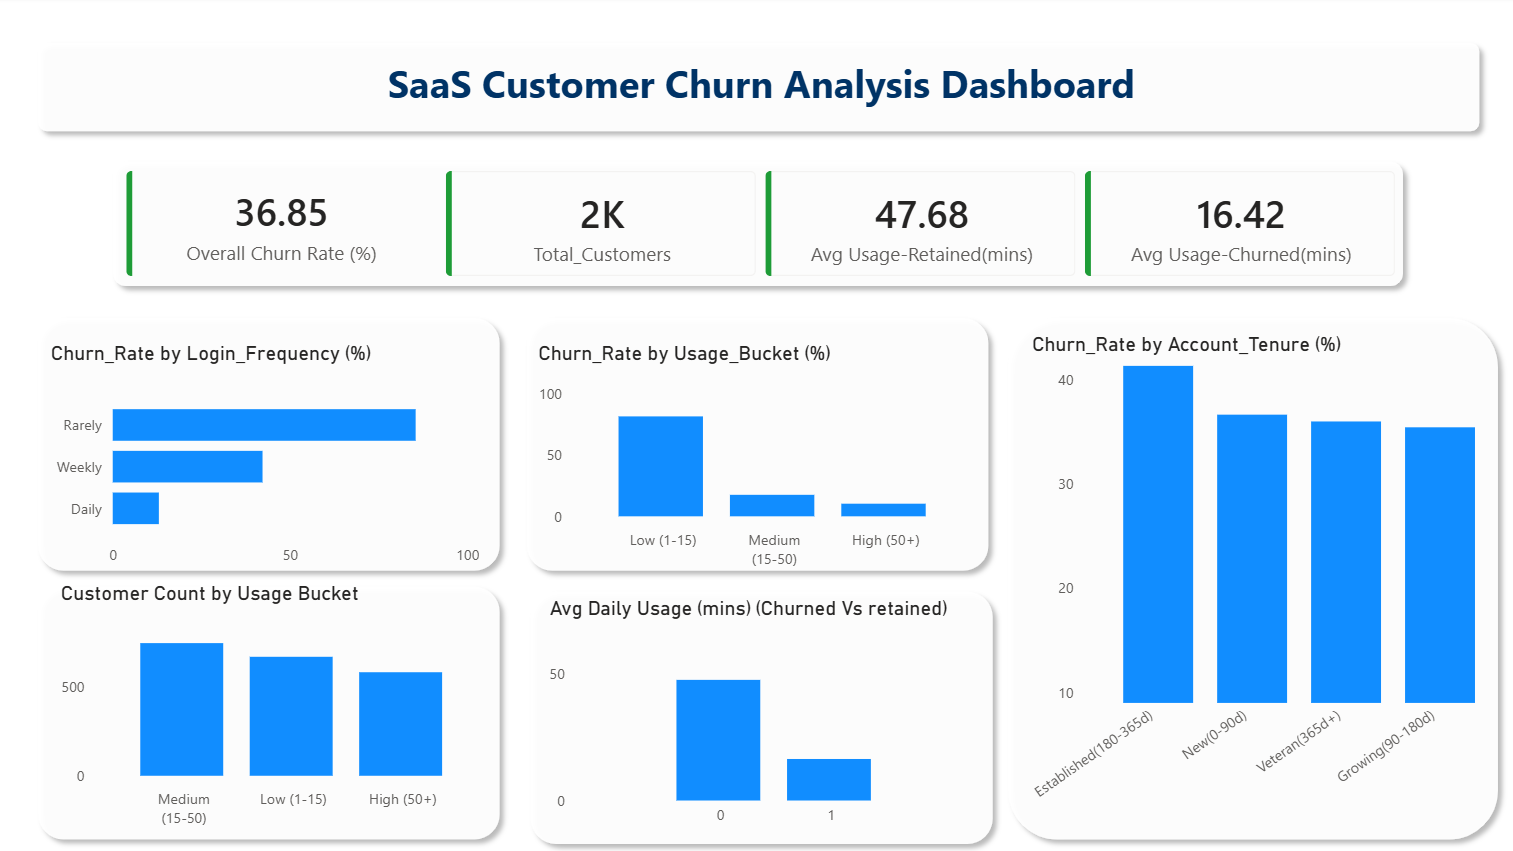

Layout of this report page (visuals, bound fields, positions):
{"tool":"powerbi","page":{"name":"Dashboard","canvas":[1280,720],"ordinal":0},"visuals":[{"type":"shape","box":[26.8,30.3,1226.7,92],"z":0},{"type":"shape","box":[89.7,130.5,1099.7,122.3],"z":1000},{"type":"shape","box":[26.8,260.9,405,230],"z":2000},{"type":"shape","box":[436.8,260.9,405,230],"z":3000},{"type":"shape","box":[841.1,260.9,428.7,455.5],"z":4000},{"type":"textbox","box":[228.3,46.6,828.3,60.6],"z":5000},{"type":"cardVisual","fields":{"Data":["saas_churn_analysis.Churn_Rate","saas_churn_analysis.Total_Cust","saas_churn_analysis.Avg_Usage_Retained","saas_churn_analysis.Avg_Usage_Churned"]},"box":[93.2,130.5,1099.7,122.3],"z":6000},{"type":"shape","box":[440.3,490.4,405.4,229.5],"z":6500},{"type":"barChart","title":"Churn_Rate by Login_Frequency (%)","fields":{"Category":["saas_churn_analysis.Login_Frequency"],"Y":["saas_churn_analysis.Churn_Rate"]},"box":[41.9,288.9,369.3,198],"z":7000},{"type":"columnChart","title":"Churn_Rate by Usage_Bucket (%)","fields":{"Y":["saas_churn_analysis.Churn_Rate"],"Category":["saas_churn_analysis.Usage_Bucket"]},"box":[450.8,288.9,376.3,198],"z":8000},{"type":"columnChart","title":"Avg Daily Usage (mins) (Churned Vs retained) ","fields":{"Category":["saas_churn_analysis.Churn"],"Y":["Avg(saas_churn_analysis.Daily_Usage_Mins)"]},"box":[460.1,503.2,366.9,201.5],"z":9000},{"type":"shape","box":[26.8,486.9,405,230],"z":9500},{"type":"columnChart","title":"Customer Count by Usage Bucket","fields":{"Category":["saas_churn_analysis.Usage_Bucket"],"Y":["CountNonNull(saas_churn_analysis.Usage_Bucket)"]},"box":[50.1,490.4,370.4,214.3],"z":10000},{"type":"columnChart","title":"Churn_Rate by Account_Tenure (%)","fields":{"Y":["saas_churn_analysis.Churn_Rate"],"Category":["saas_churn_analysis.Account_Tenure"]},"box":[864.4,281.9,415.9,415.9],"z":12000}]}

Visuals, with their boxes in screenshot pixels (x1, y1, x2, y2), scaled from the page's 1280x720 canvas onto the 1513x851 screenshot:
shape: bbox=[32, 36, 1482, 145]
shape: bbox=[106, 154, 1406, 299]
shape: bbox=[32, 308, 510, 580]
shape: bbox=[516, 308, 995, 580]
shape: bbox=[994, 308, 1501, 847]
textbox: bbox=[270, 55, 1249, 127]
cardVisual - saas_churn_analysis.Churn_Rate x saas_churn_analysis.Total_Cust: bbox=[110, 154, 1410, 299]
shape: bbox=[520, 580, 1000, 850]
"Churn_Rate by Login_Frequency (%)" barChart: bbox=[50, 341, 486, 575]
"Churn_Rate by Usage_Bucket (%)" columnChart: bbox=[533, 341, 978, 575]
"Avg Daily Usage (mins) (Churned Vs retained) " columnChart: bbox=[544, 595, 978, 833]
shape: bbox=[32, 575, 510, 847]
"Customer Count by Usage Bucket" columnChart: bbox=[59, 580, 497, 833]
"Churn_Rate by Account_Tenure (%)" columnChart: bbox=[1022, 333, 1512, 825]
